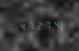four: (18, 21, 25, 31), (50, 19, 57, 29)
seven: (26, 20, 33, 31), (42, 19, 49, 30)
two: (34, 20, 41, 30)
